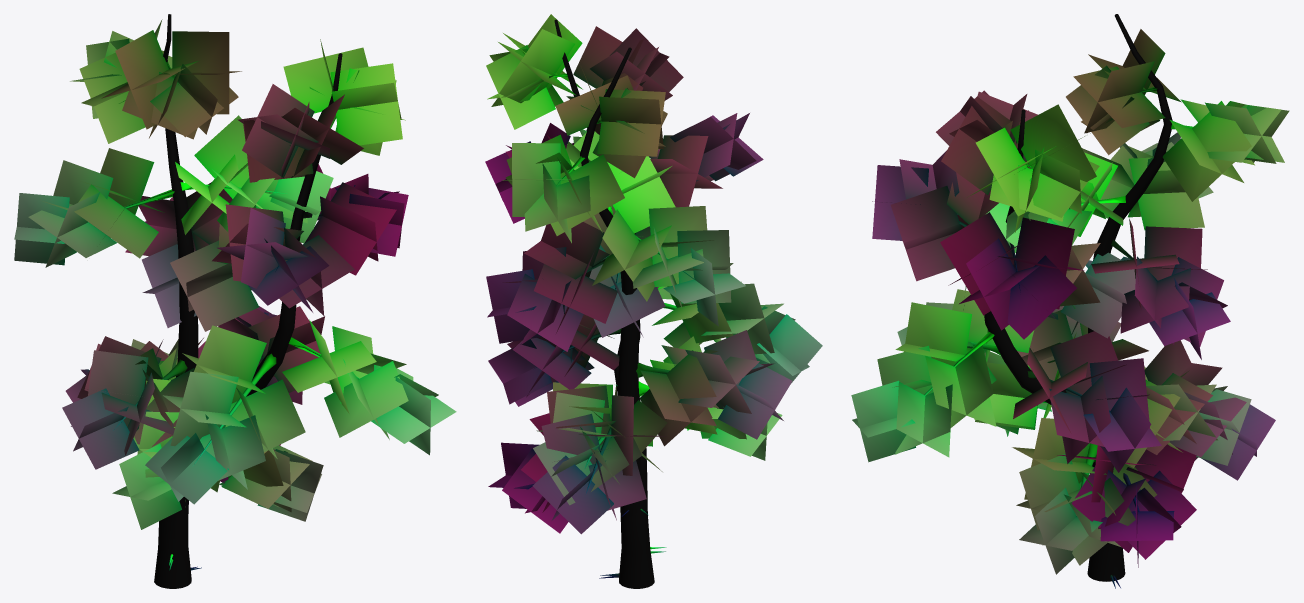
The model's file is M_P7_Tree_13.fbx.
The picture shows the model from 3 angles, left to right: view 1: azimuth 30°, elevation 25°; view 2: azimuth 150°, elevation 25°; view 3: azimuth 270°, elevation 25°; orthographic projection. The views are drawn at different scales.
Visible parts, largest first — view 1: Tree_13; view 2: Tree_13; view 3: Tree_13.
Boxes of the visible parts, bbox=[...] form: Tree_13: bbox=[14, 14, 456, 588]; Tree_13: bbox=[485, 14, 822, 588]; Tree_13: bbox=[851, 14, 1289, 588].
Bounding box in the file's own units: 301 × 490 × 347.
